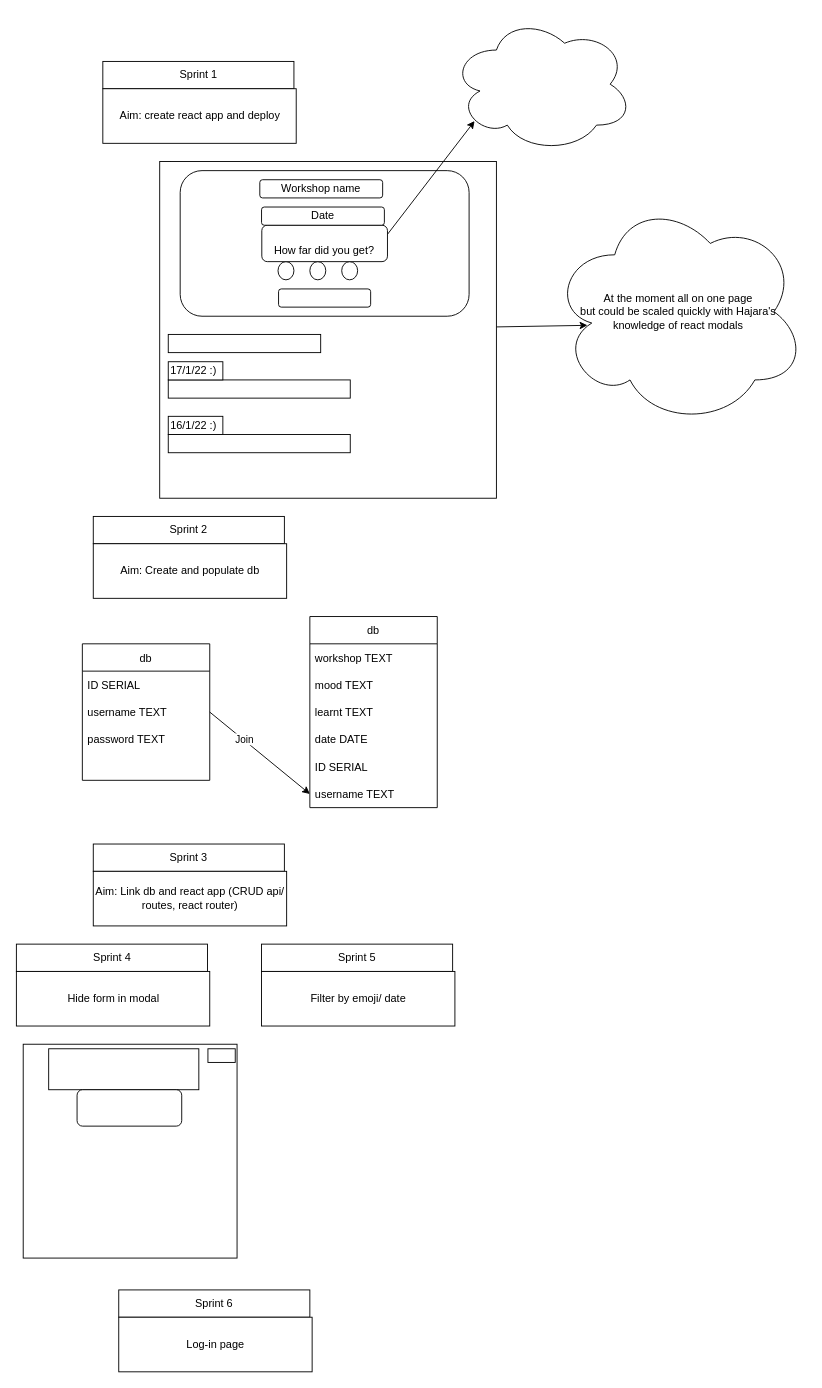
Image size: 822x1388. Some labels were removed from this diagram. Here are the shapes that lost their labels. From the top down, the centre of each, then its label:
(x=541, y=83): Asma leaning towards percentage complete 0 -25- 50- 100 instead of qual question
(x=324, y=297): submit
(x=244, y=343): User, your journey at a glance
(x=123, y=1069): Hi, user! How was your day?
(x=129, y=1107): Add task
